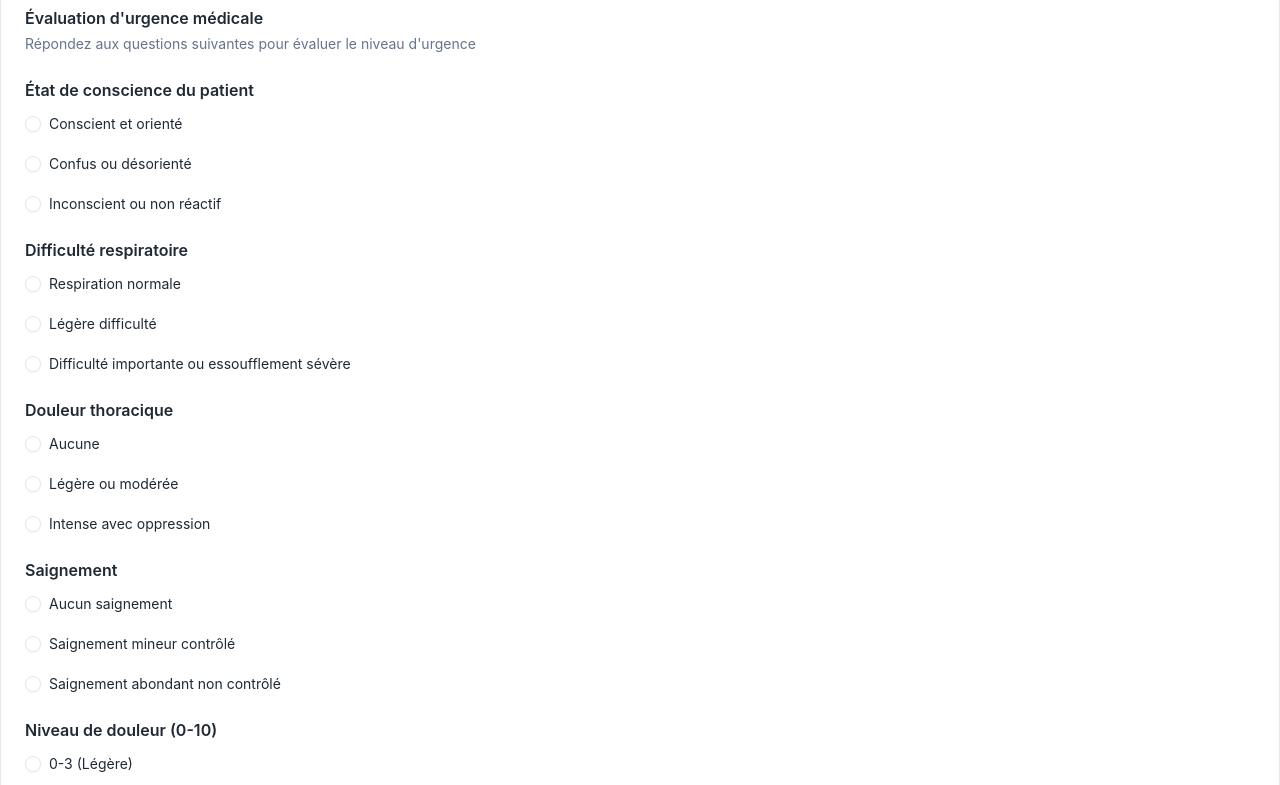
questionnaire complet : réponses envoyées avec les symptômes par défaut, résultat du serveur affiché
Click the radio button named "Conscient et orienté" next to "Conscient et orienté" at [33, 124], box [25,116,41,132]
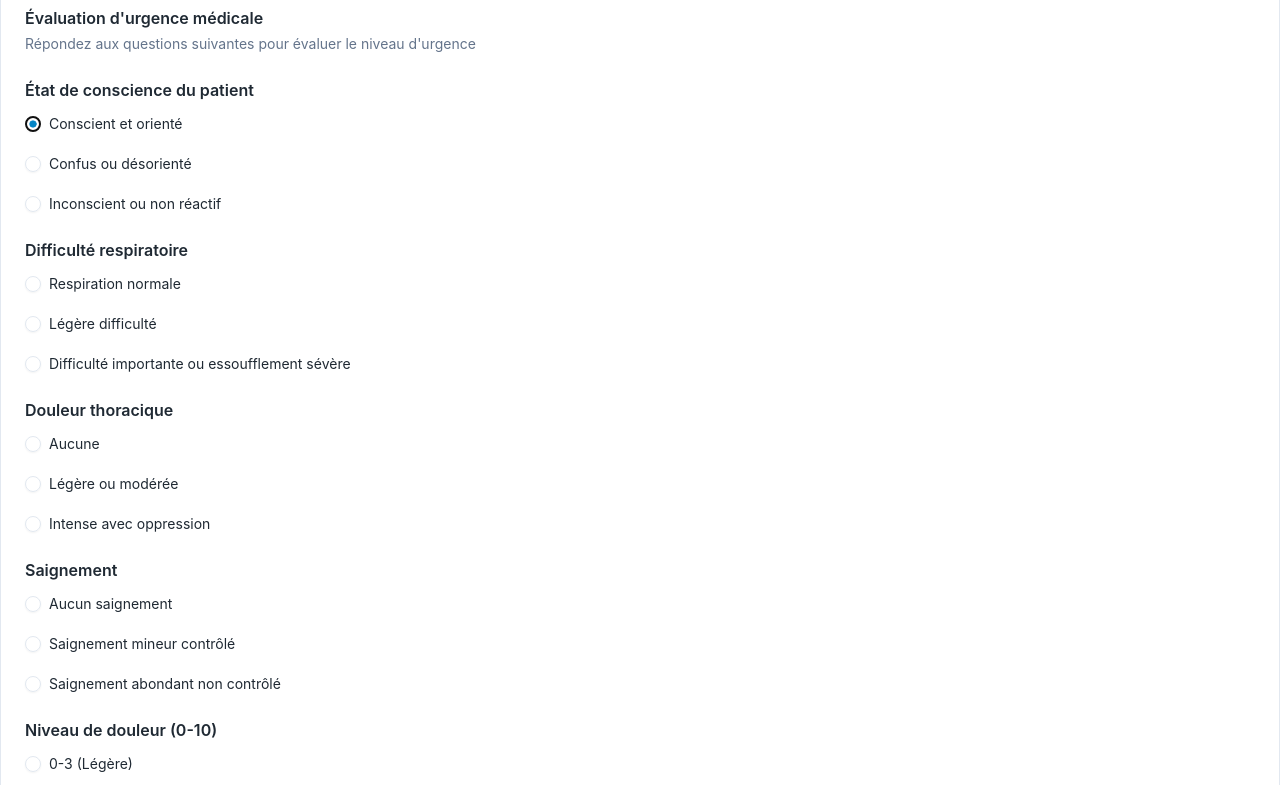
Click the radio button named "Respiration normale" next to "Respiration normale" at [33, 284], box [25,276,41,292]
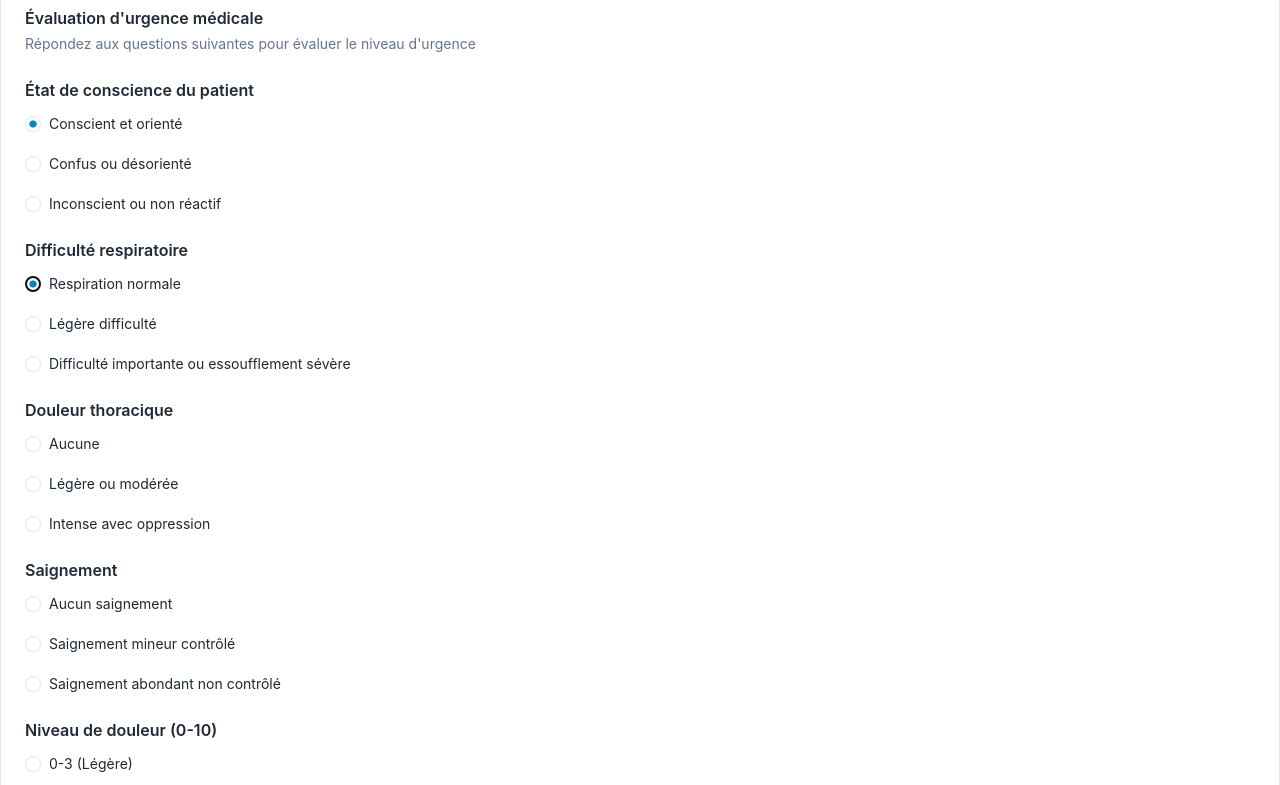
Click the radio button named "Aucune" next to "Aucune" at [33, 444], box [25,436,41,452]
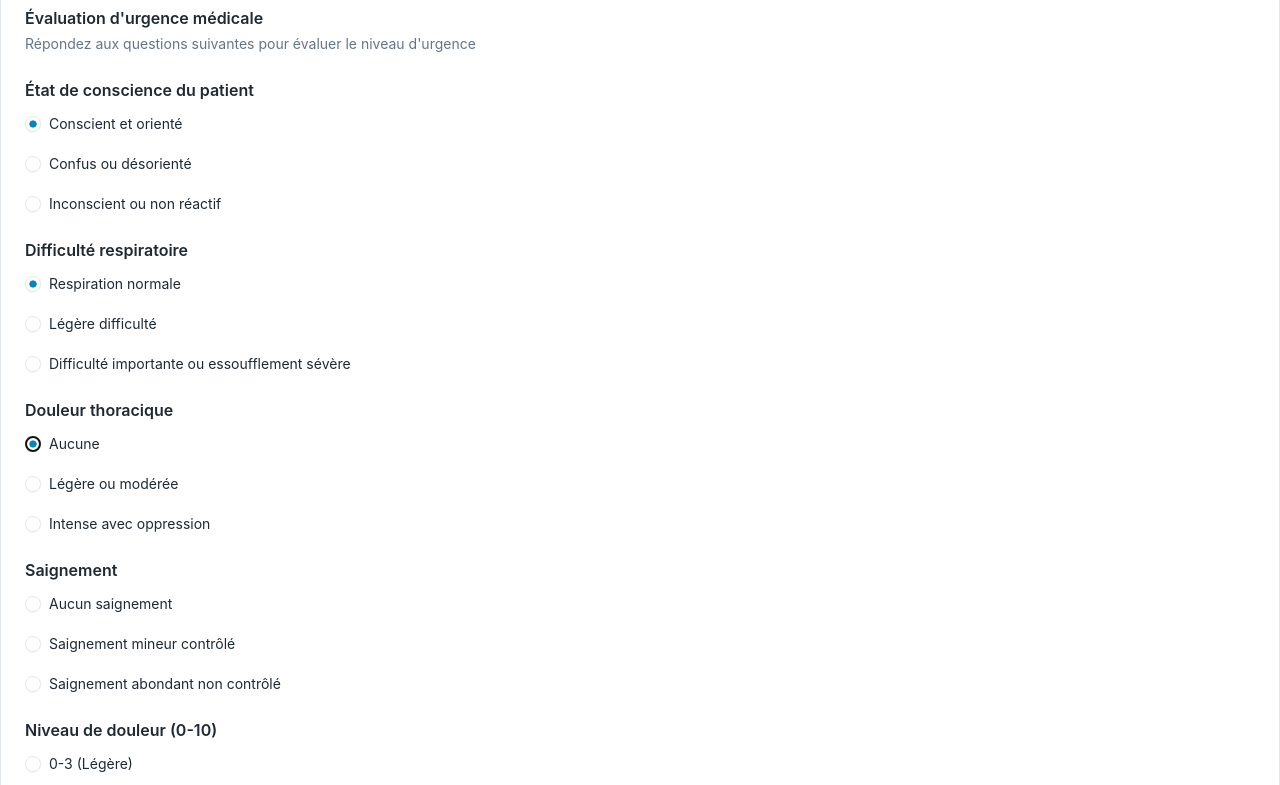
Click the radio button named "Aucun saignement" next to "Aucun saignement" at [33, 604], box [25,596,41,612]
(page scrolled)
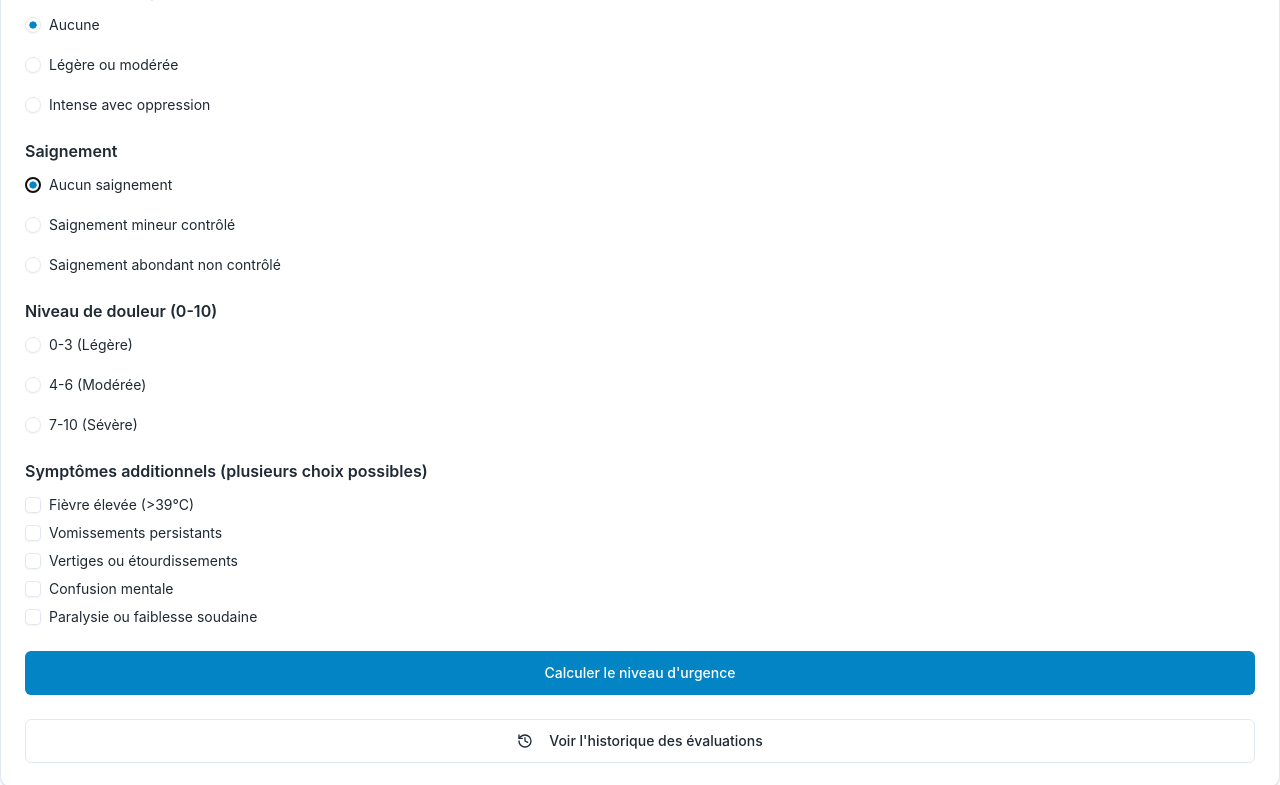
Click the radio button named "4-6 (Modérée)" next to "4-6 (Modérée)" at [33, 385], box [25,377,41,393]
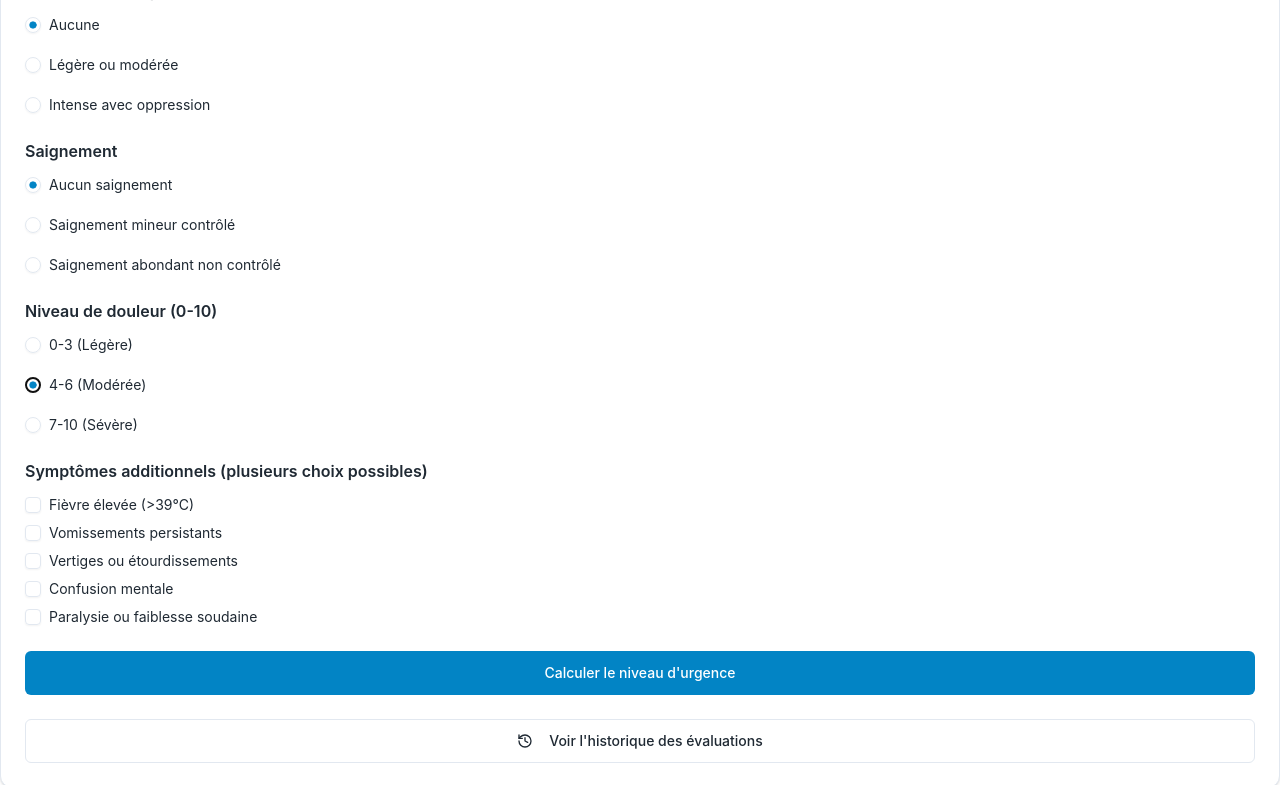
Click the button "Calculer le niveau d'urgence" at [640, 673], box [25,651,1255,695]
(page scrolled)
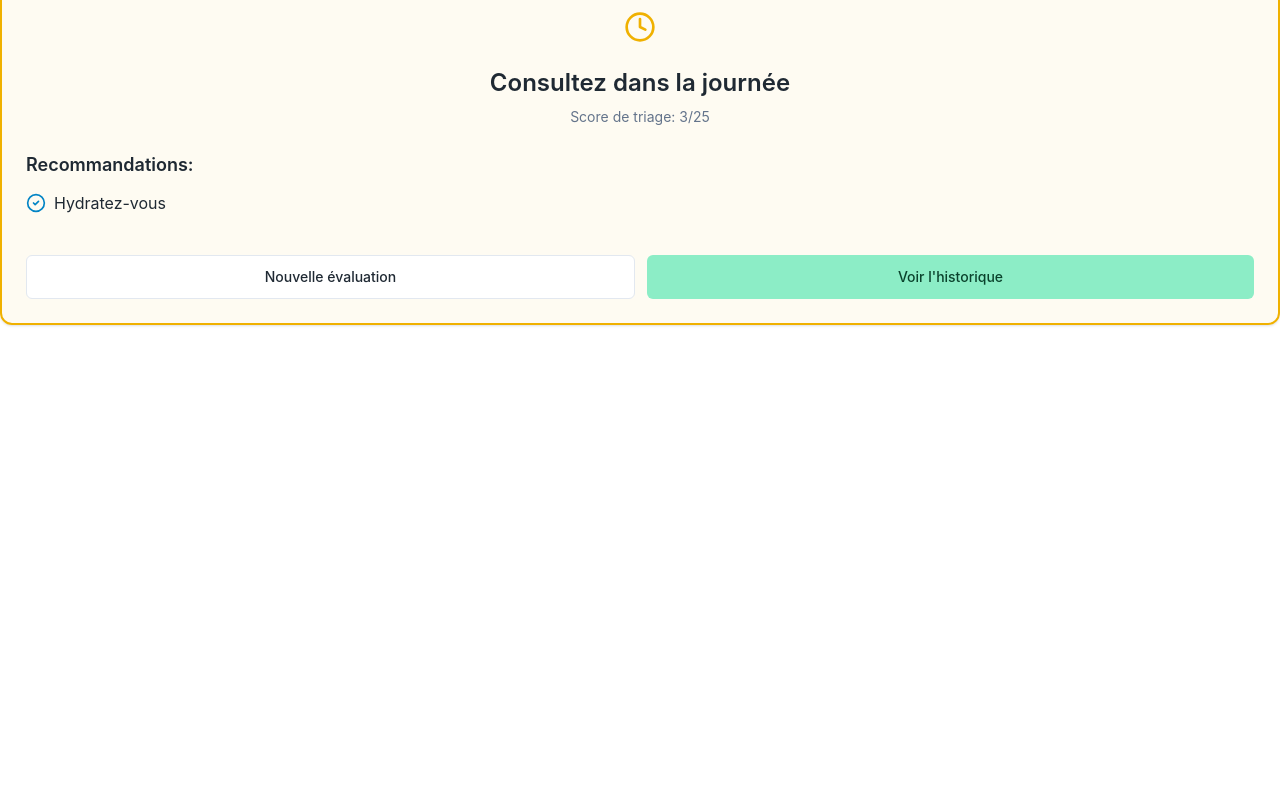
Check: the text "Consultez dans la journée" is shown, box [490,68,790,97]
